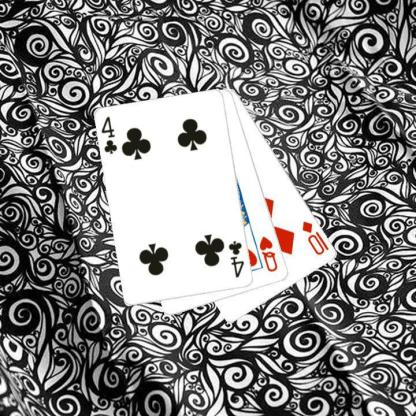10D: (300, 219, 330, 256)
4C: (99, 114, 119, 156), (226, 239, 246, 279)
QH: (257, 233, 280, 274)
